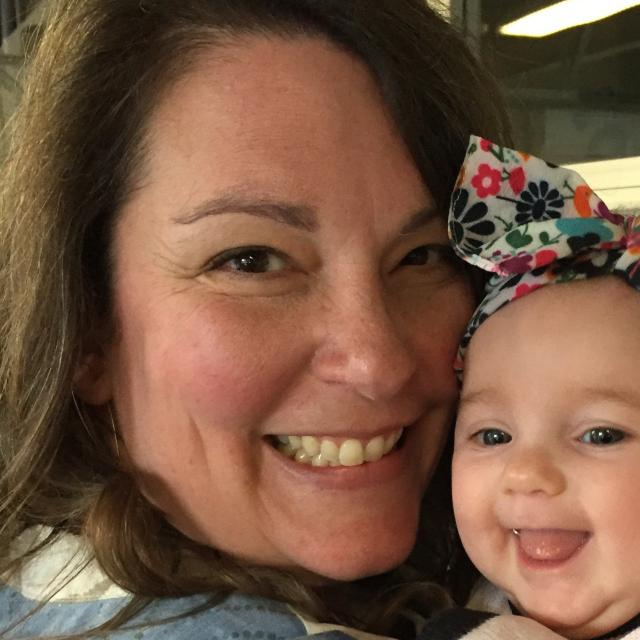Normal: (117, 42, 465, 576)
